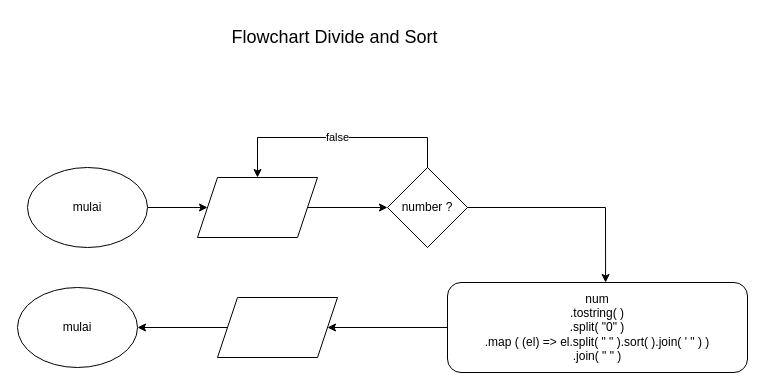
This 765x390 diagram has some shape labels left out. The centre of each missing label's shape, as x and y in pixels:
input num: pixel 257 207
output num: pixel 277 327
